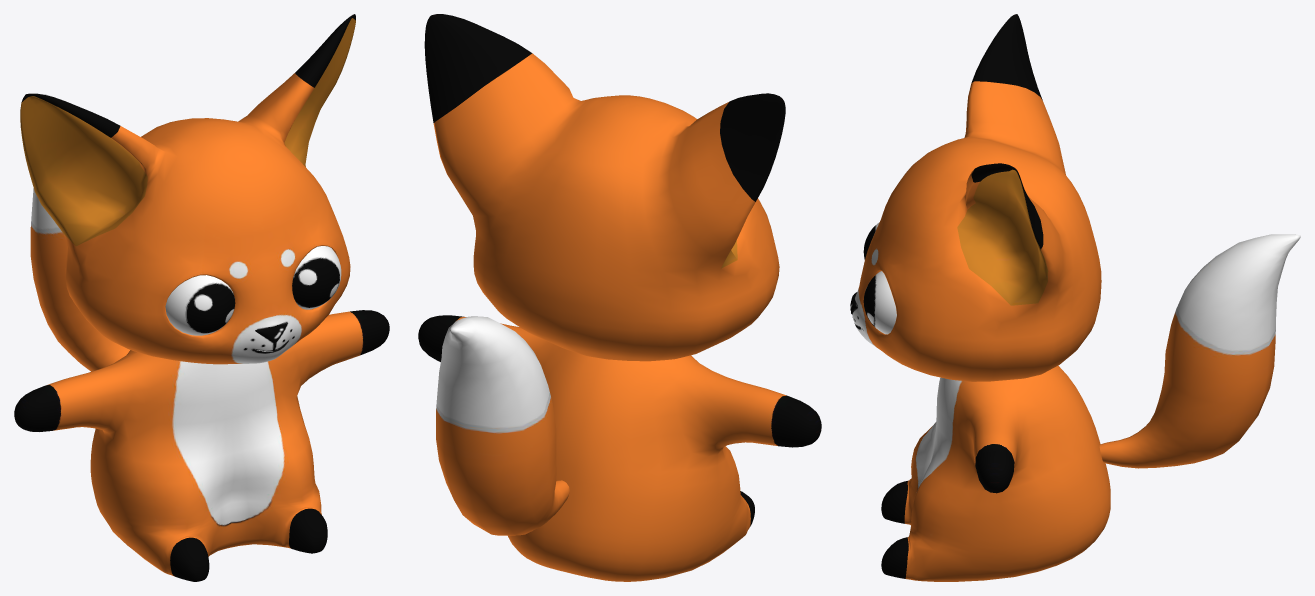
Rendered from Cute_Fox.glb.
3 renders of one model, left to right at view 1: azimuth 30°, elevation 25°; view 2: azimuth 150°, elevation 25°; view 3: azimuth 270°, elevation 25°, orthographic. The views are drawn at different scales.
Parts seen in each view (by area): view 1: Sphere001, Cylinder001, Cylinder002, Sphere003, Sphere009; view 2: Sphere001, Cylinder001, Cylinder002; view 3: Sphere001, Cylinder001, Cylinder002, Sphere009.
Boxes of the visible parts, x1=… form: Sphere001: x1=20, y1=14, x2=355, y2=364; Cylinder001: x1=14, y1=310, x2=389, y2=581; Cylinder002: x1=30, y1=94, x2=130, y2=371; Sphere003: x1=165, y1=275, x2=235, y2=335; Sphere009: x1=292, y1=246, x2=341, y2=309; Sphere001: x1=424, y1=14, x2=785, y2=361; Cylinder001: x1=418, y1=315, x2=821, y2=581; Cylinder002: x1=436, y1=316, x2=569, y2=535; Sphere001: x1=852, y1=14, x2=1101, y2=381; Cylinder001: x1=881, y1=365, x2=1110, y2=581; Cylinder002: x1=1099, y1=234, x2=1300, y2=468; Sphere009: x1=863, y1=271, x2=896, y2=334.
Bounding box in the file's own units: 1.34 × 1.62 × 1.44.
2 materials, 2 textured.
